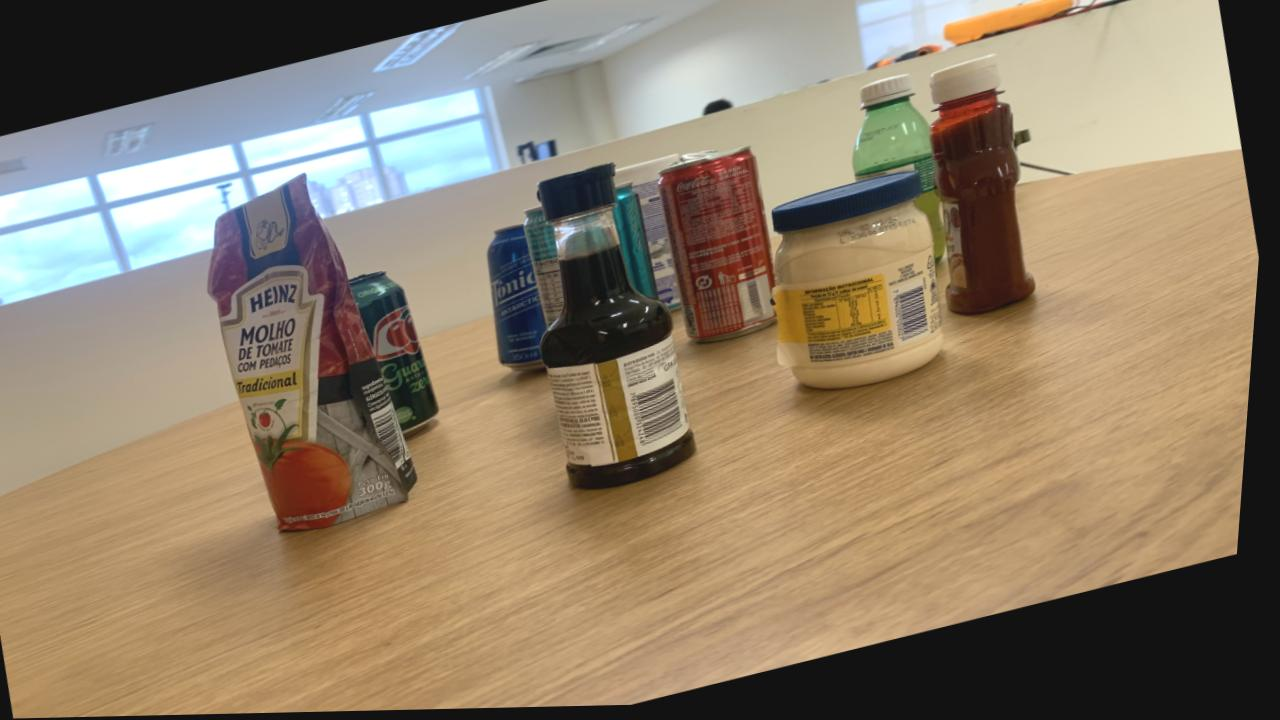Cleaner-Cleanup_Items: (617, 156, 686, 312)
Coke-Drinks: (660, 150, 779, 346)
English_Sauce-Pantry_Items: (540, 165, 703, 491)
Guarana-Drinks: (854, 78, 949, 264)
Guarana_Can-Drinks: (353, 273, 445, 435)
Ketchup-Pantry_Items: (931, 60, 1039, 318)
Mayonnaise-Pantry_Items: (776, 176, 950, 392)
Tea-Drinks: (616, 184, 664, 302), (526, 208, 569, 329)
Tomato_Sauce-Pantry_Items: (211, 175, 425, 533)
Tonic-Drinks: (490, 226, 551, 373)
